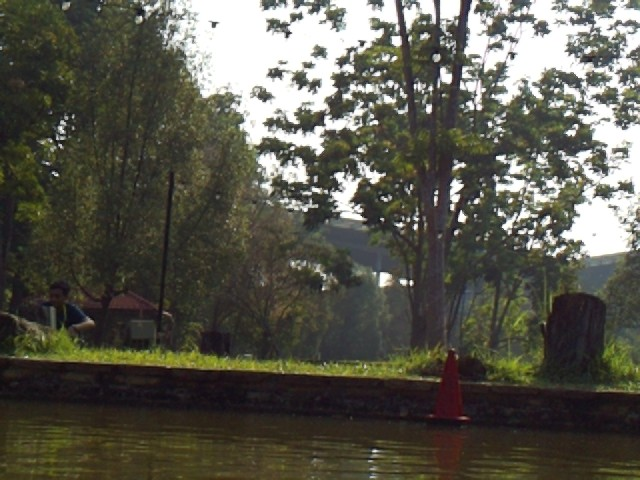obstacle: (426, 349, 471, 428)
